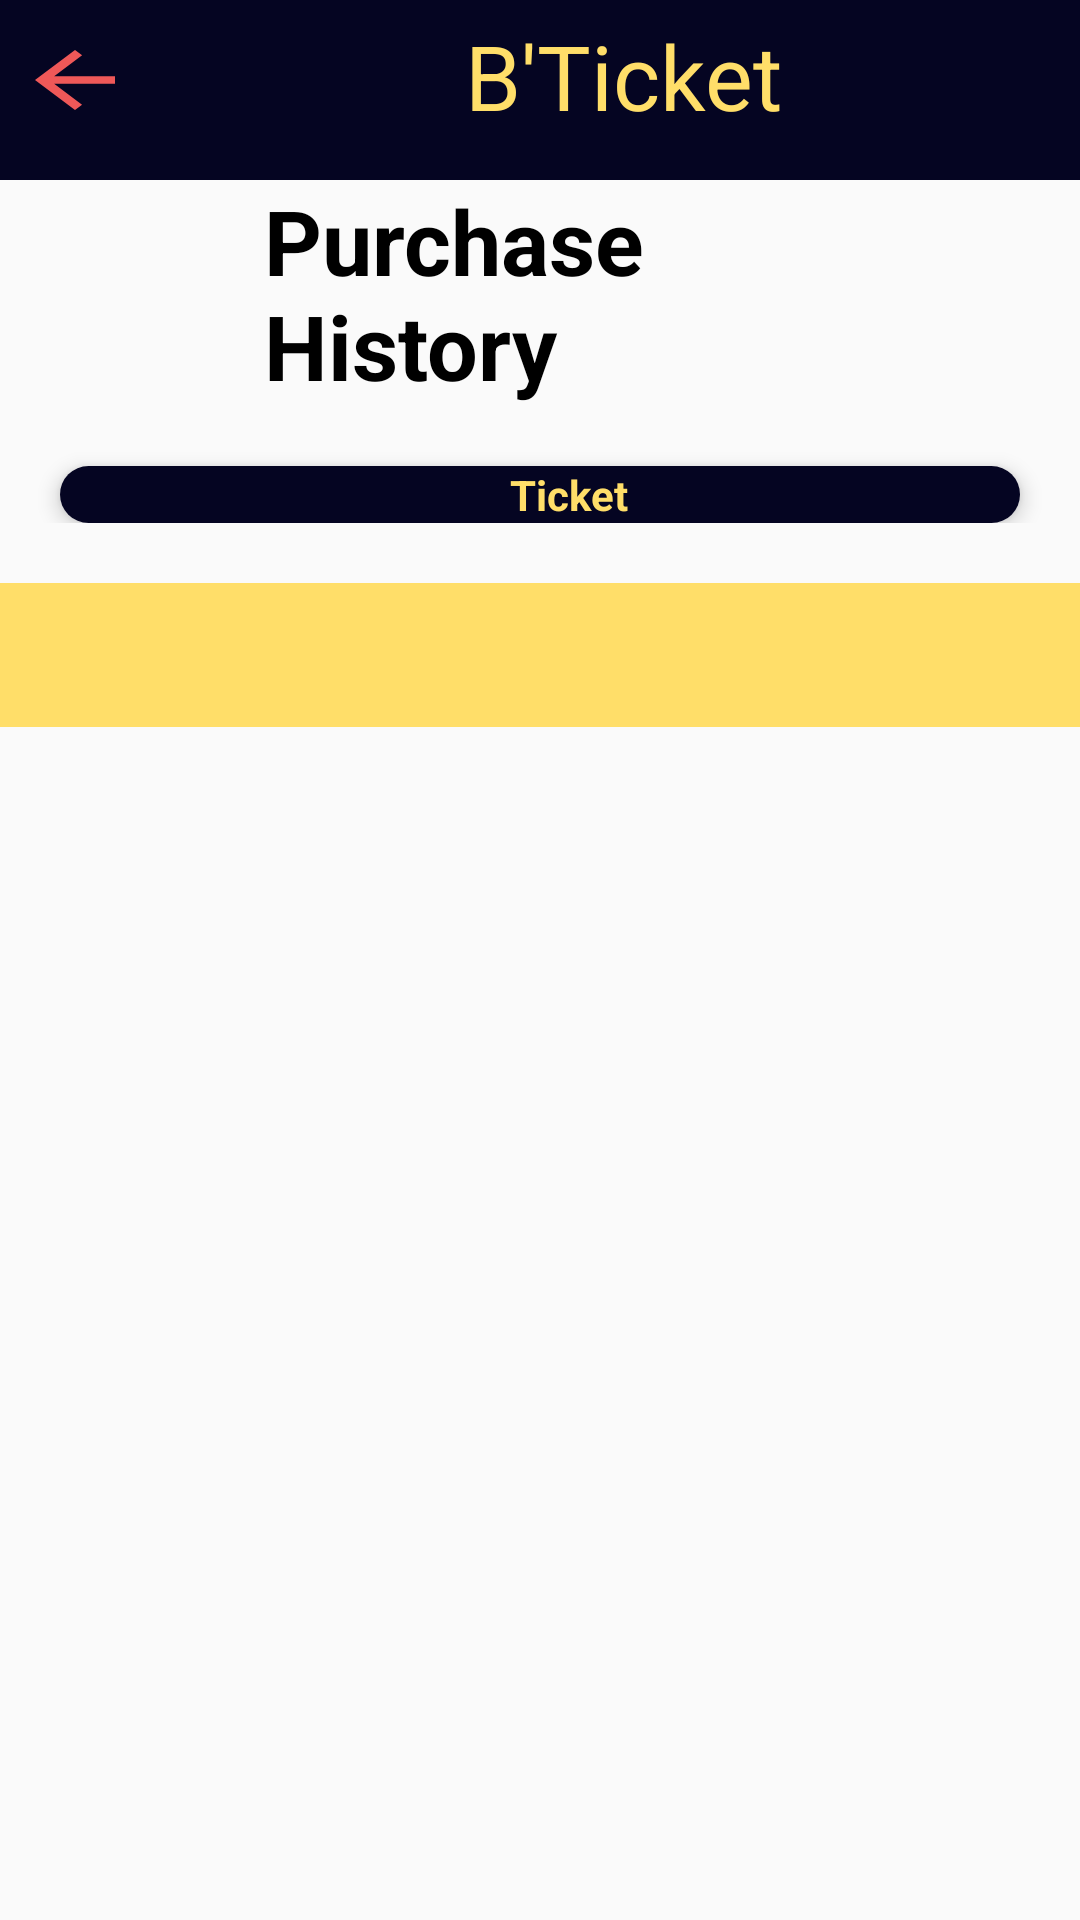

Where to tap for icons on this 1080 × 1920 app screen, as (x=x, y=y):
arrow back: (x=75, y=80)
